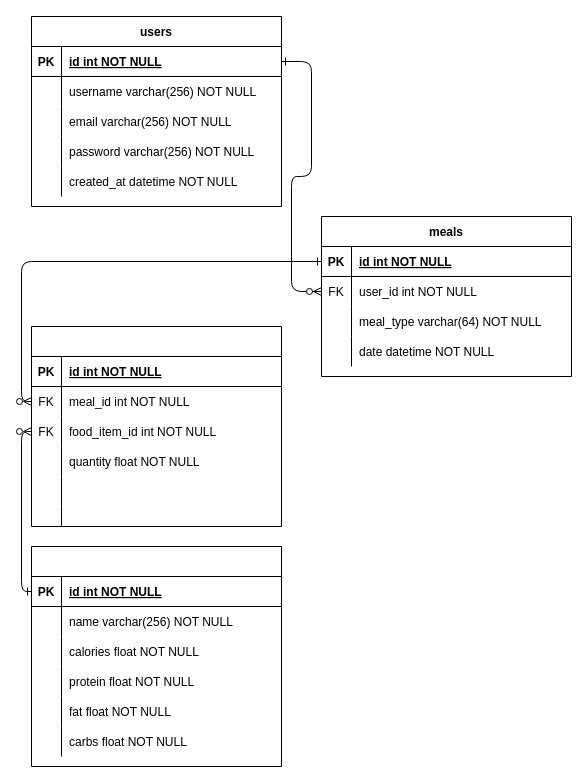
This 588x783 diagram has some shape labels left out. Here are the shapes that lost their labels. From the top down, the box of each, then its label:
(30, 326, 282, 526): meal_entries
(30, 546, 282, 766): food_items
